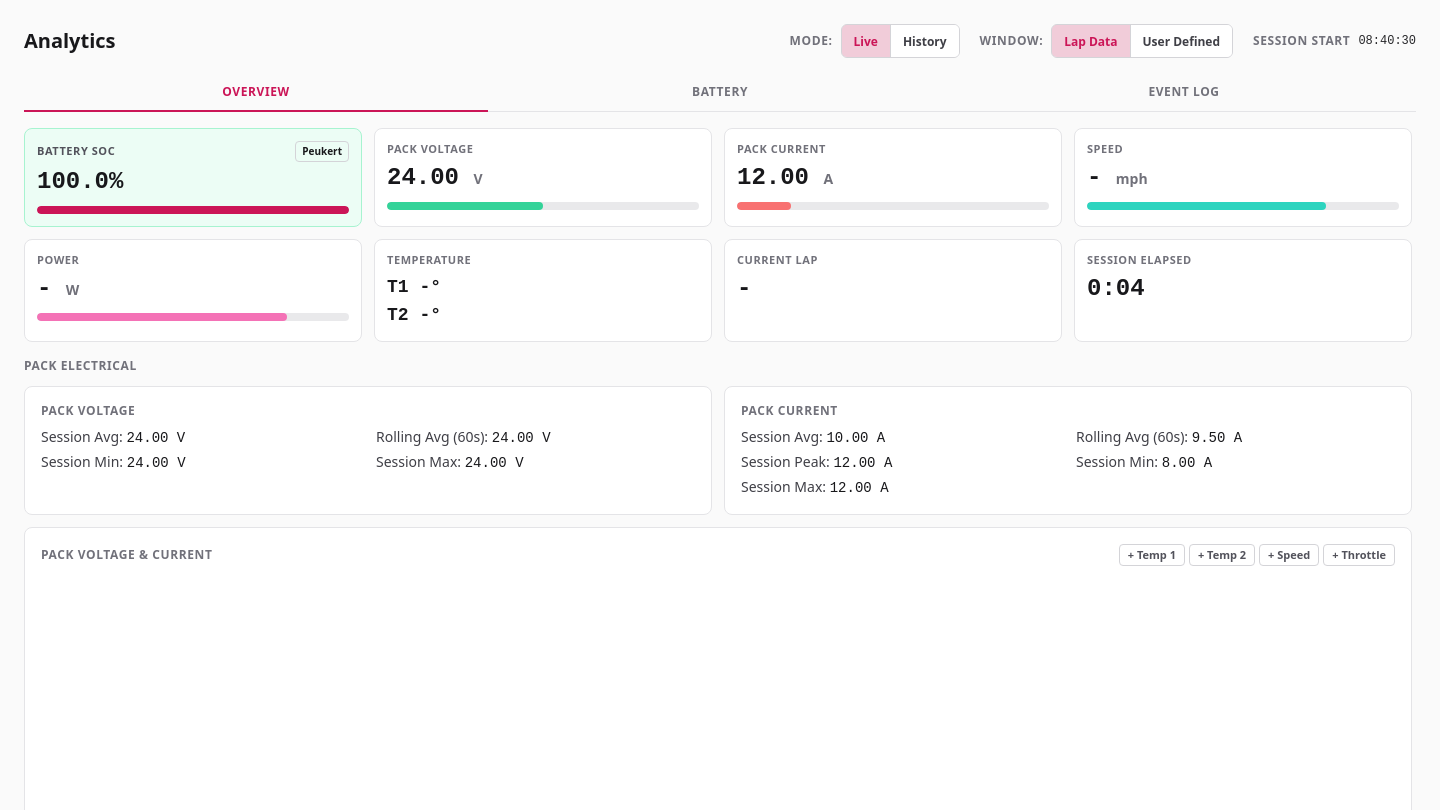
Test: AnalyticsTab › renders overview, battery, and event log sub-tabs when samples exist
Check: the text "Reliability Event Log" is not shown
What coordinates should you click on to do the following:
click the tab "Battery"
I would click on:
 (720, 93)
Its box is [488,74,952,112].
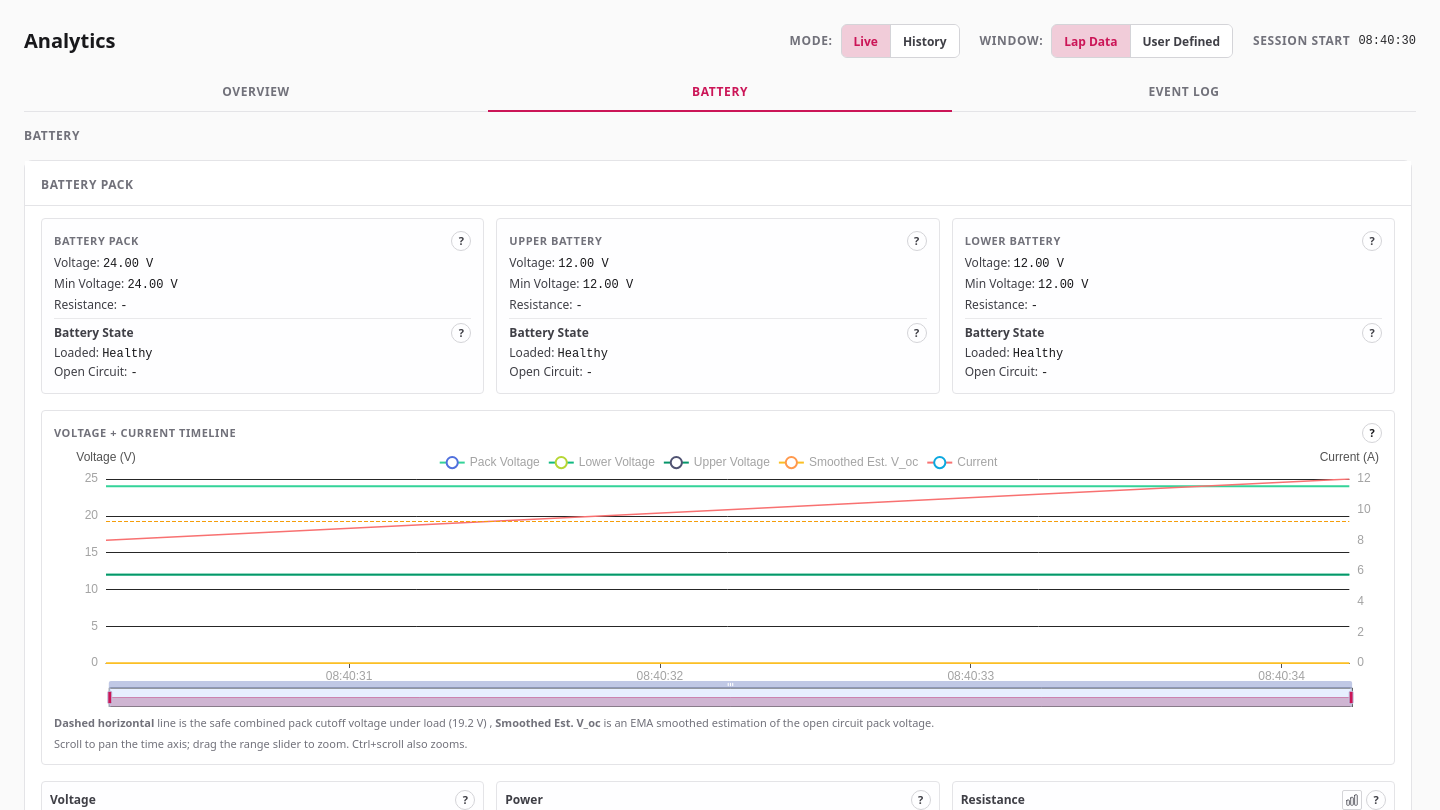
Check: the text "Battery Pack" is shown, box [41,176,134,193]
What coordinates should you click on to do the following:
click the tab "Event Log"
I would click on:
 (1184, 93)
Its box is [952,74,1416,112].
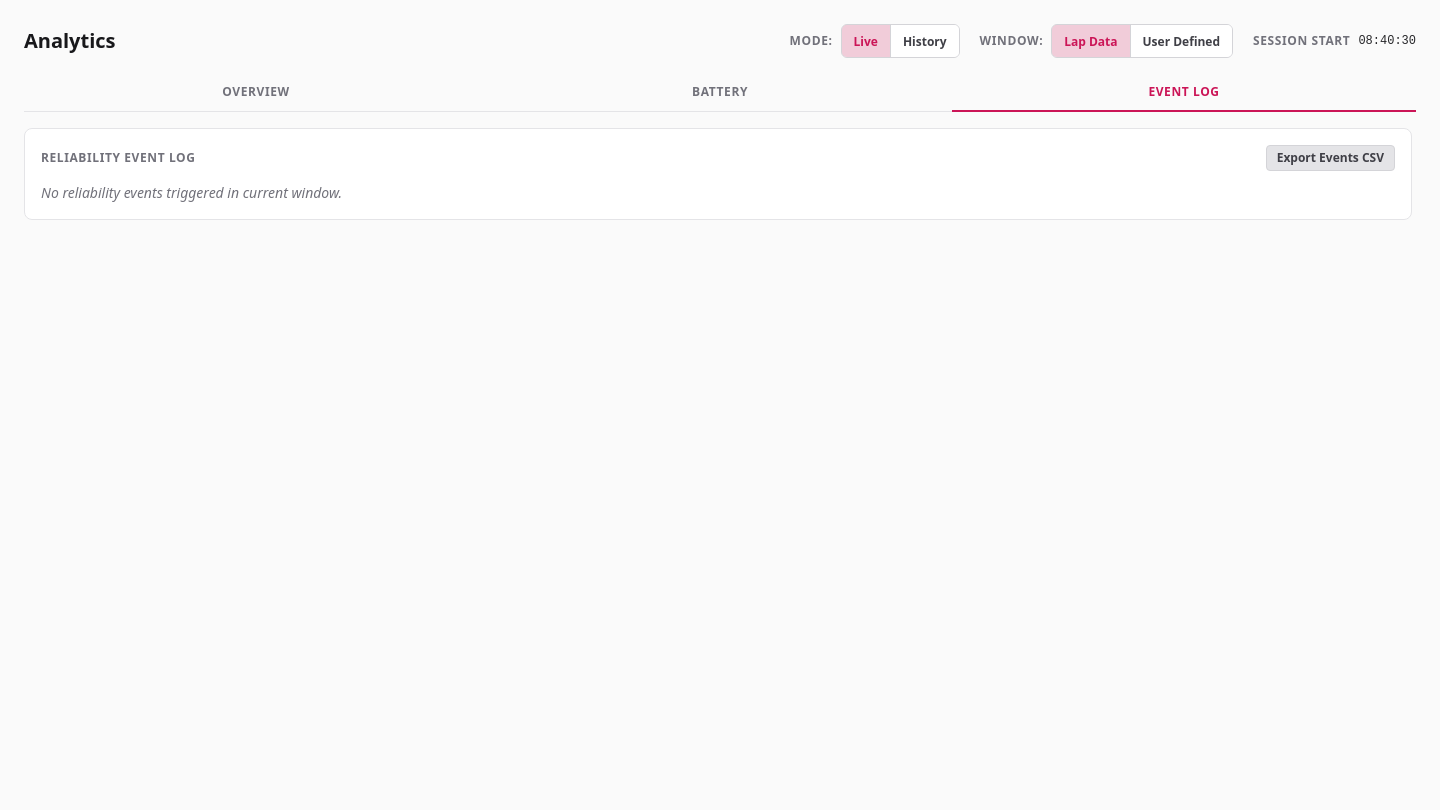
Check: the text "Reliability Event Log" is shown, box [41,150,196,166]
Check: the text "Export Events CSV" is shown, box [1266,145,1395,171]
